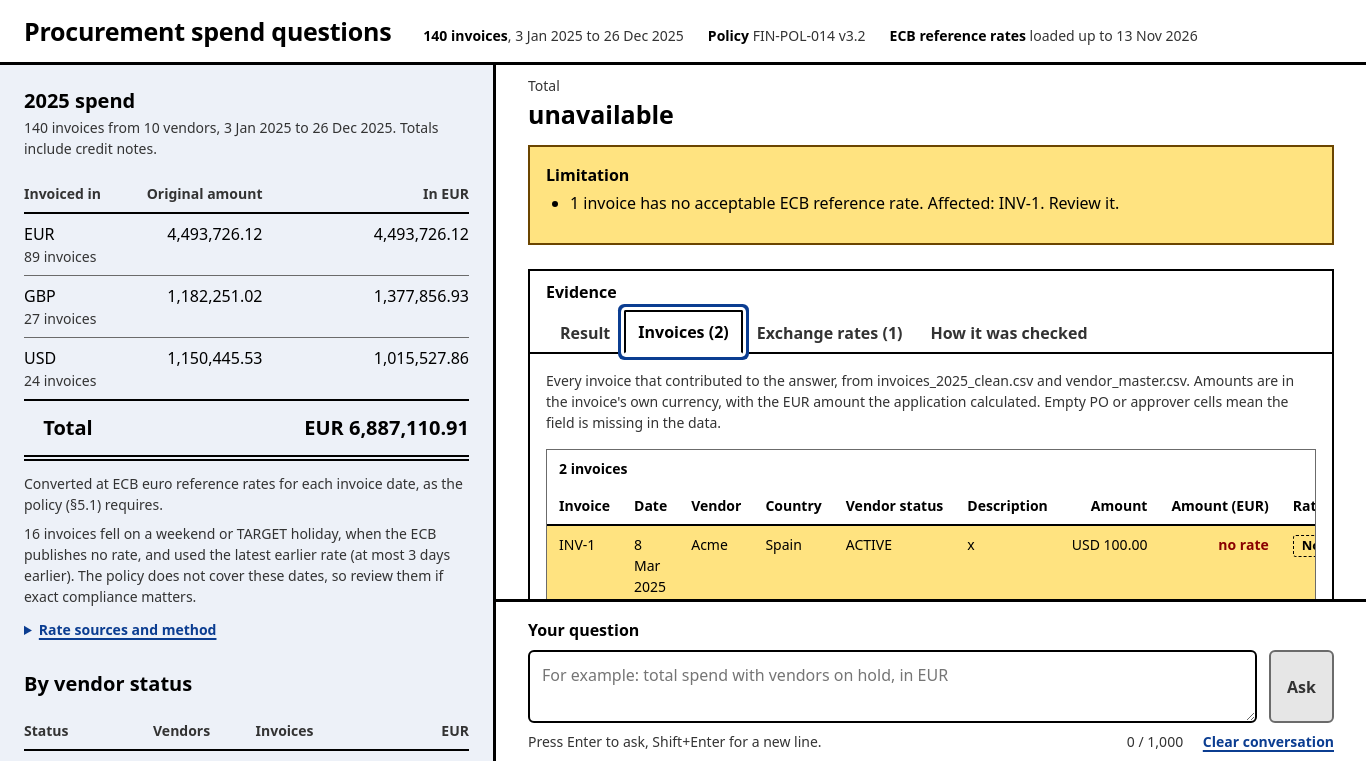
Scenario: asking questions › shows limitations and never a partial total
This screenshot has width=1366, height=761.
Earlier steps of the test are not shown.
(page scrolled)
Check: the text "no rate" is shown, box [1159,525,1281,599]
Step 1. Click the tab "Exchange rates (1)" → (830, 332), box [743,310,916,354]
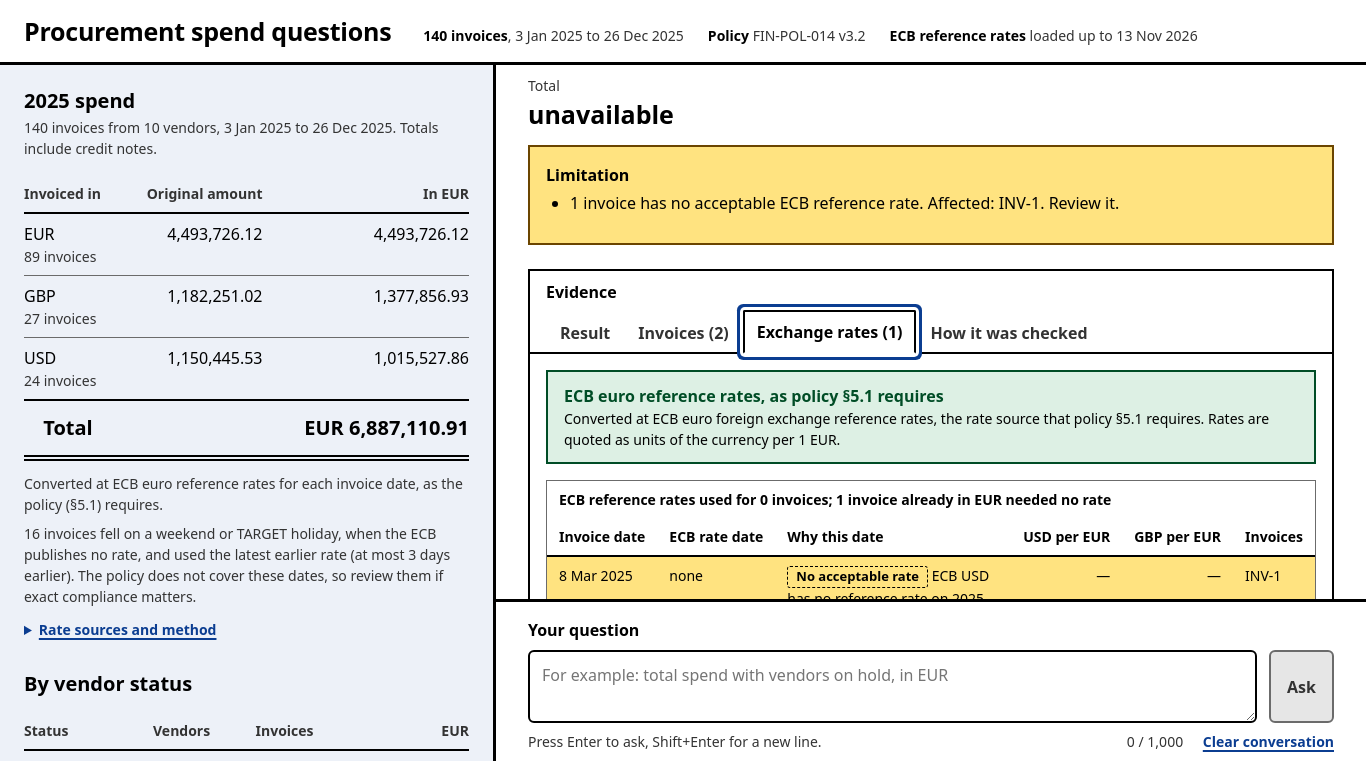
Check: the text "ECB euro reference rates, as policy §5.1 requires" is shown, box [564,385,944,407]
